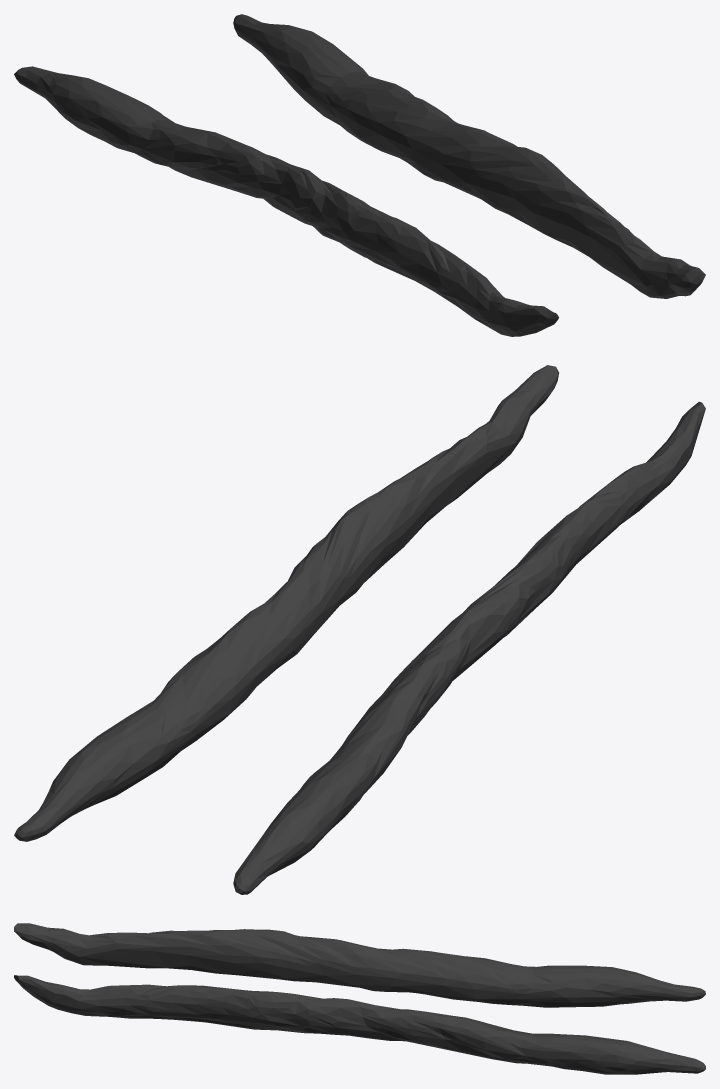
File: m_iliocostalis_cervicis_thoracis.glb
3 views of the same model, one above another, from view 1: azimuth 30°, elevation 25°; view 2: azimuth 150°, elevation 25°; view 3: azimuth 270°, elevation 25° (orthographic). The views are drawn at different scales.
Visible parts, largest first — view 1: m_iliocostalis_cervicis_thoracis; view 2: m_iliocostalis_cervicis_thoracis; view 3: m_iliocostalis_cervicis_thoracis.
Boxes of the visible parts, x1,y1,x2,y2 form: m_iliocostalis_cervicis_thoracis: (14, 14, 705, 336); m_iliocostalis_cervicis_thoracis: (14, 365, 705, 894); m_iliocostalis_cervicis_thoracis: (14, 923, 705, 1074).
Bounding box in the file's own units: 0.00216 × 0.00104 × 0.00734.
1 material, 1 textured.
